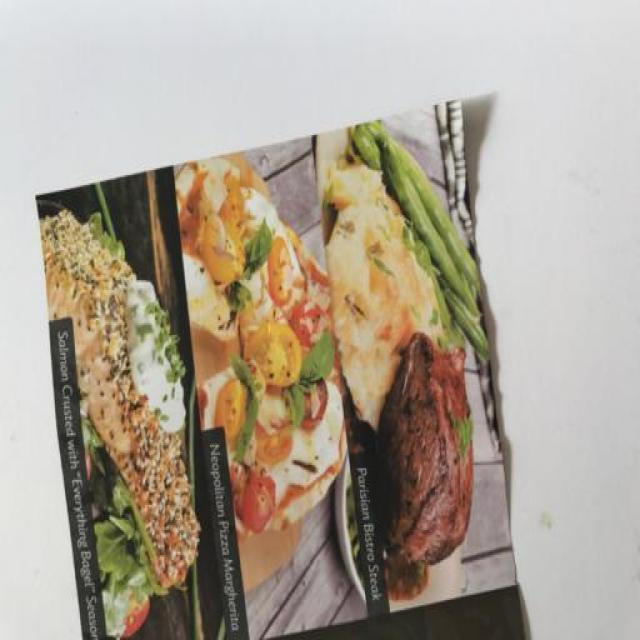paper: (44, 116, 520, 640)
